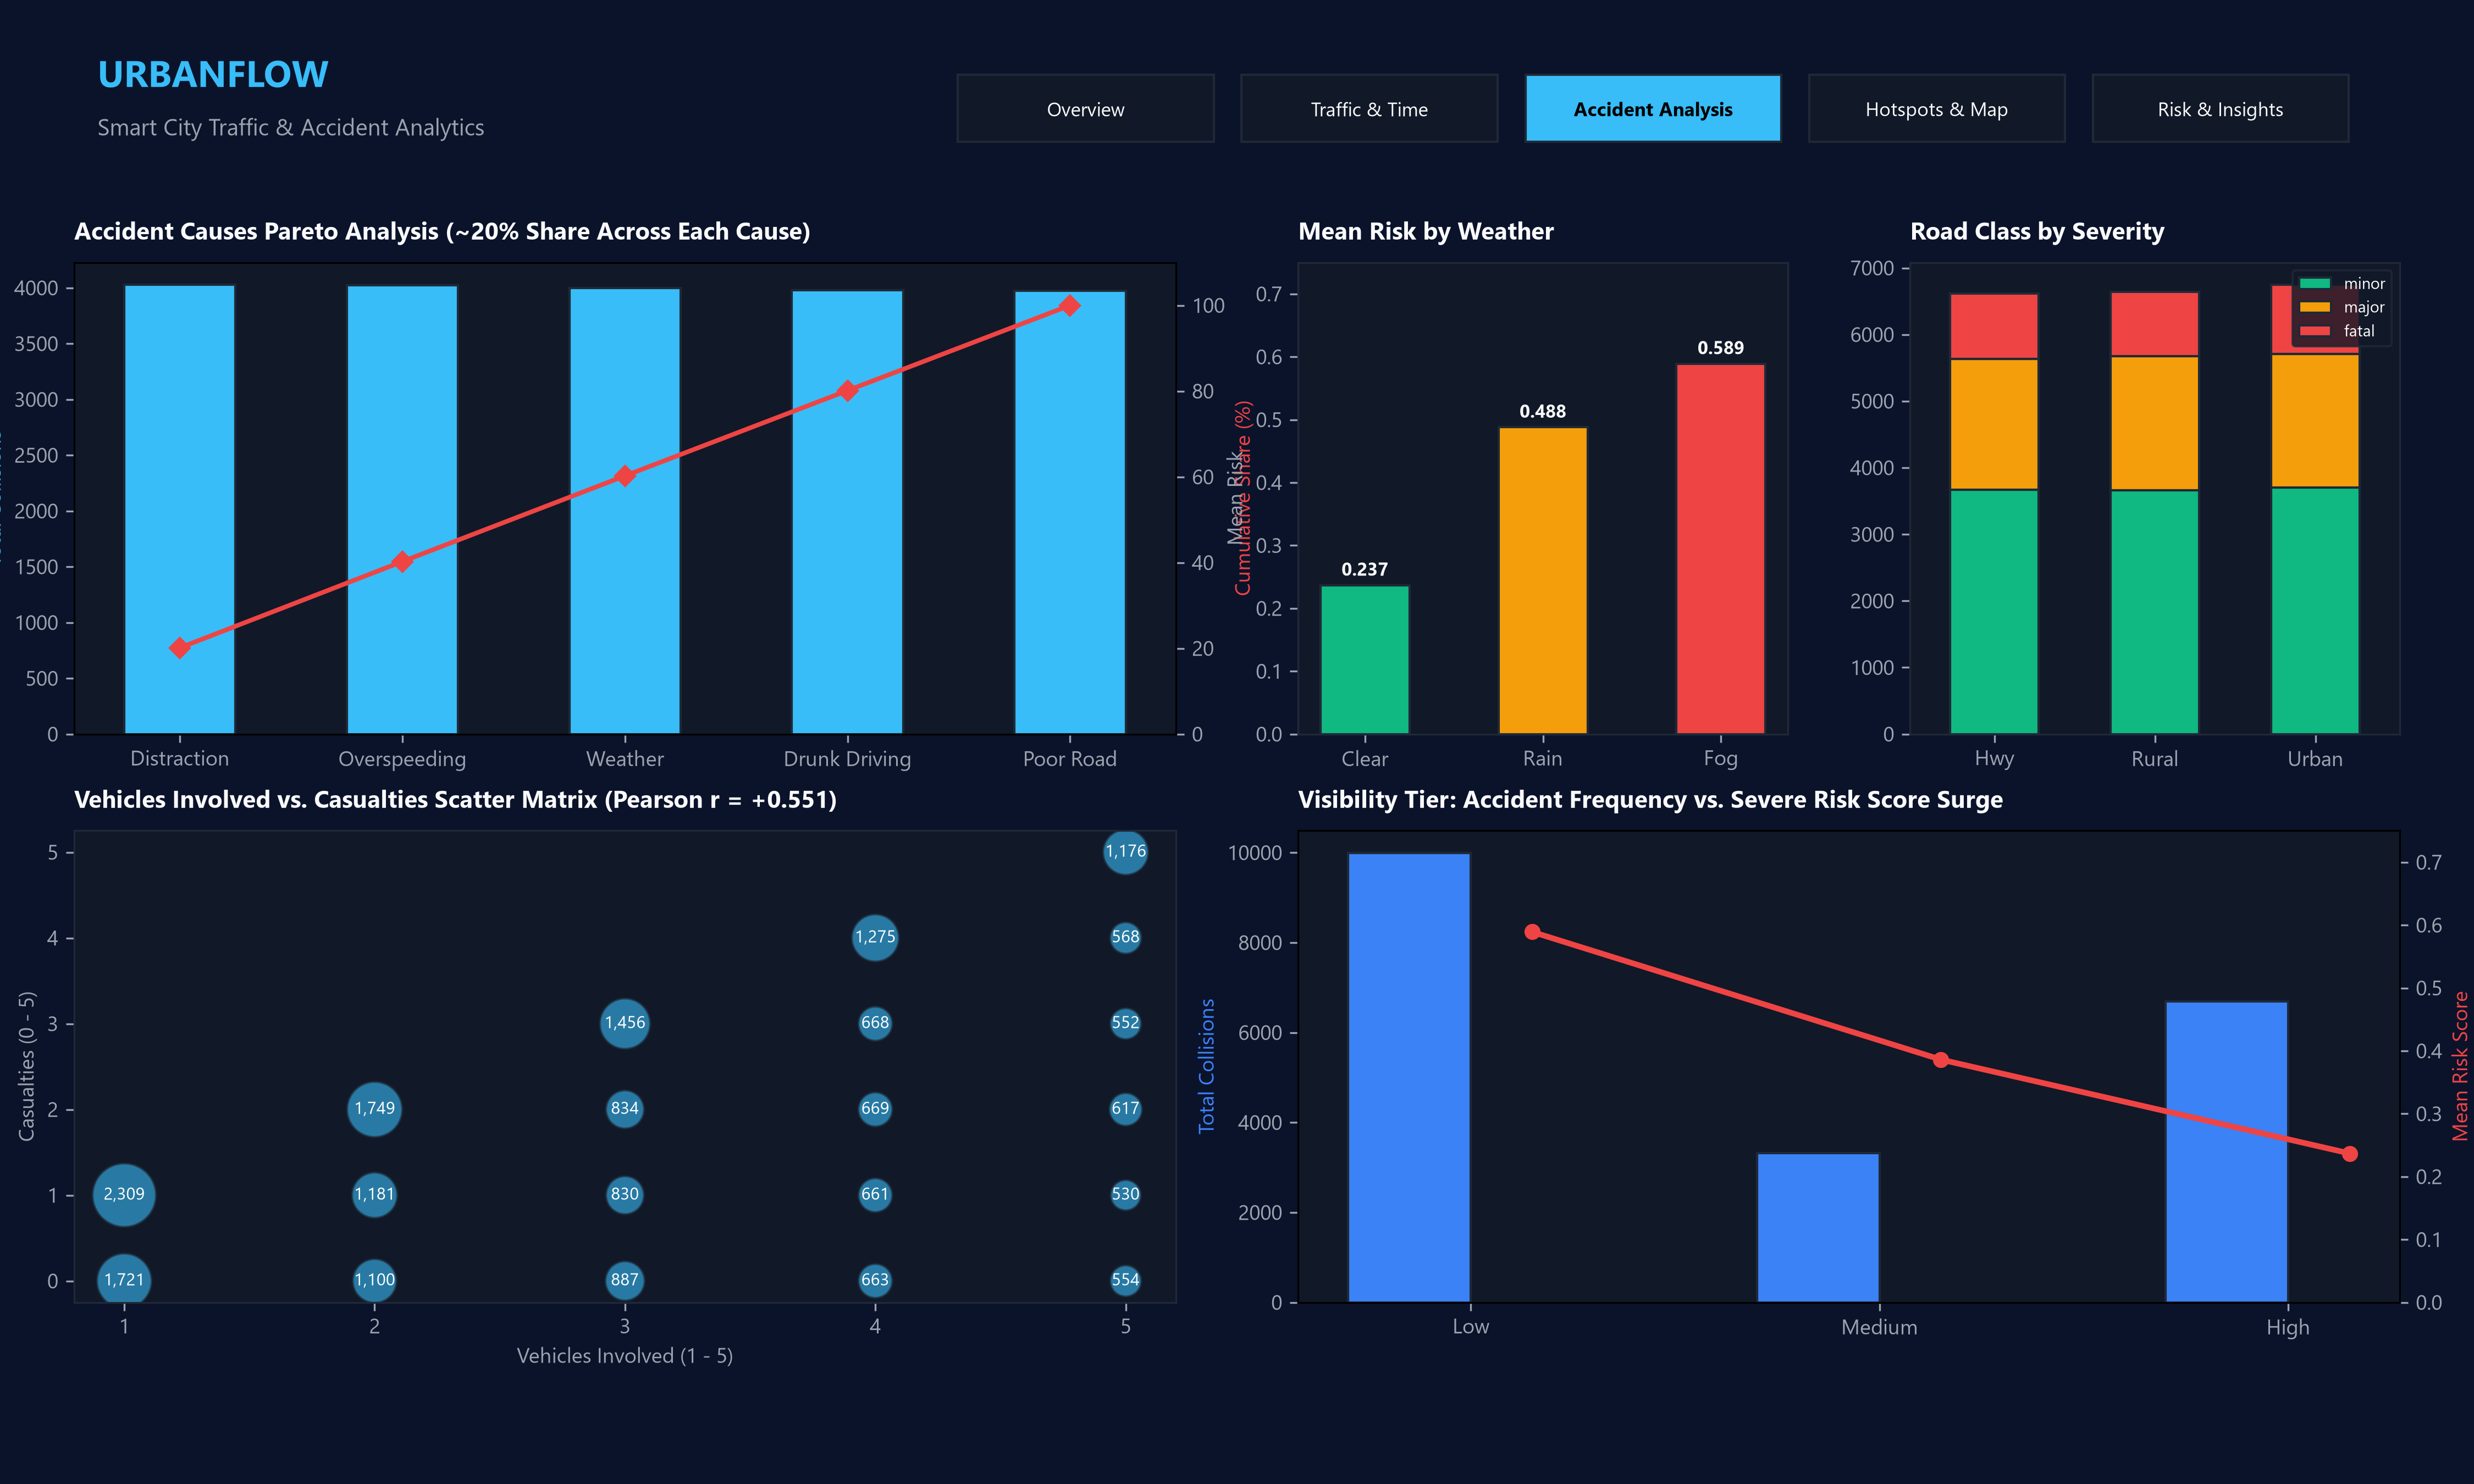

Layout of this report page (visuals, bound fields, positions):
{"tool":"powerbi","page":{"name":"Accident Analysis","canvas":[1920,1080],"ordinal":2},"visuals":[{"type":"clusteredBarChart","title":"Accident Causes","fields":{"Category":["urbanflow_cleaned.cause"],"Y":["Dim_Calendar.Total Accidents"]},"box":[503.3,128.3,935,483.3],"z":0},{"type":"clusteredColumnChart","title":"Weather vs Risk","fields":{"Category":["urbanflow_cleaned.weather"],"Y":["Dim_Calendar.Average Risk Score"]},"box":[1426.7,611.7,435,400],"z":1000},{"type":"clusteredBarChart","title":"Accidents by Road Type","fields":{"Category":["urbanflow_cleaned.road_type"],"Y":["Dim_Calendar.Total Accidents"]},"box":[55,625,448.3,400],"z":2000},{"type":"textbox","box":[690,21.7,625,118.3],"z":2001}]}

Visuals, with their boxes on the page's 1920x1080 design canvas (x1, y1, x2, y2). These are canvas units, not pixel positions in the 2474x1484 screenshot, which may show the page scaled, cropped or inside an application window:
"Accident Causes" clusteredBarChart: [x1=503, y1=128, x2=1438, y2=612]
"Weather vs Risk" clusteredColumnChart: [x1=1427, y1=612, x2=1862, y2=1012]
"Accidents by Road Type" clusteredBarChart: [x1=55, y1=625, x2=503, y2=1025]
textbox: [x1=690, y1=22, x2=1315, y2=140]
